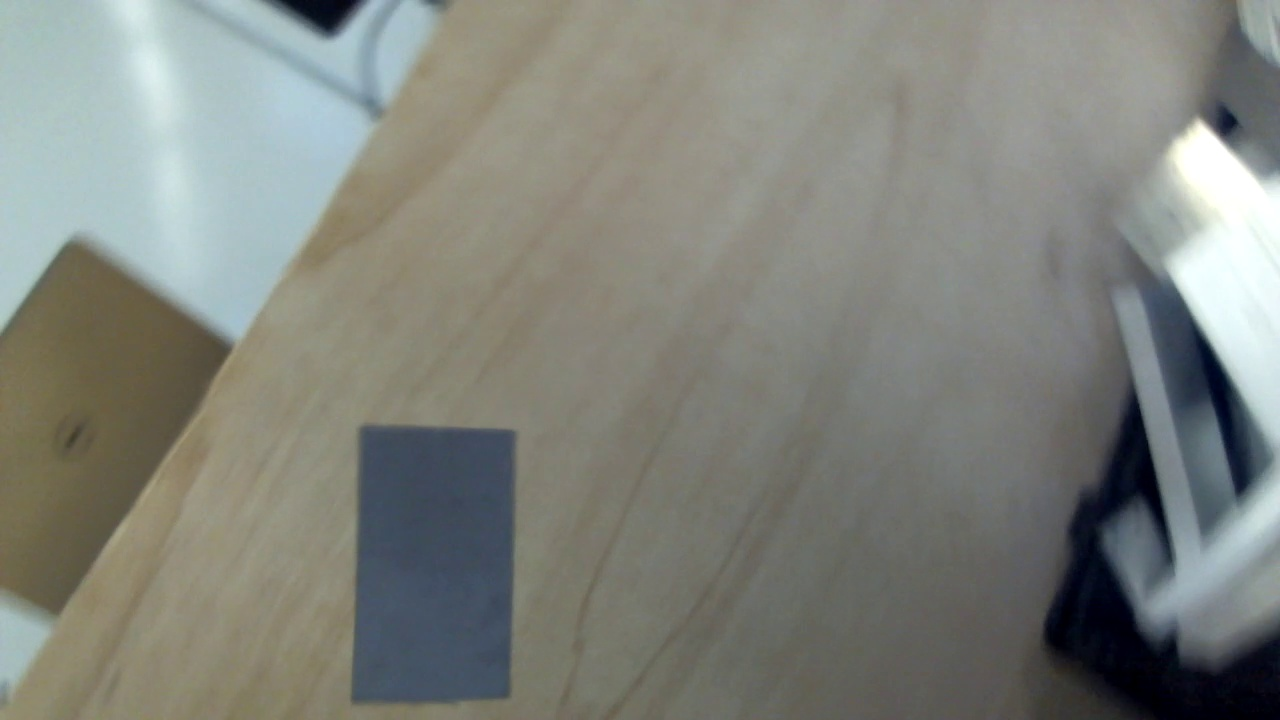Tape: (353, 425, 514, 702)
